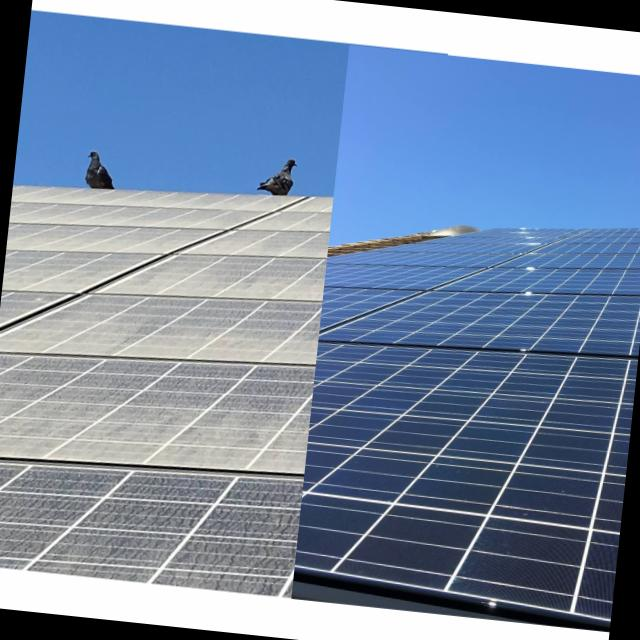faulty: (0, 178, 329, 595)
no faulty: (296, 224, 640, 620)
